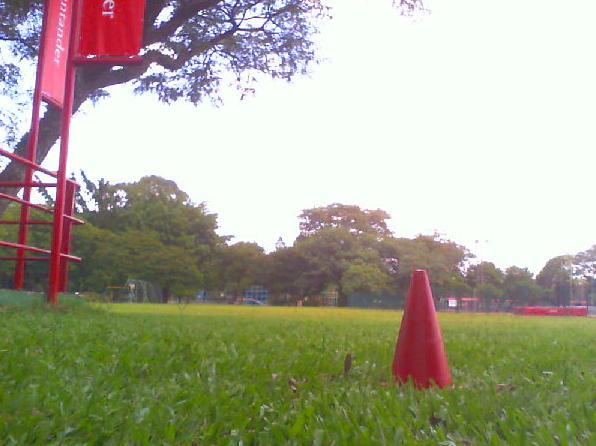0 cone: (390, 269, 452, 390)
